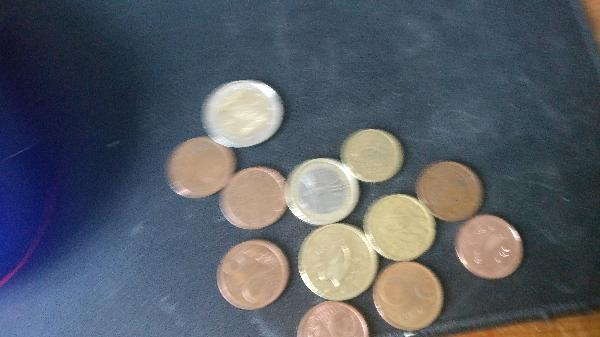Fifty Cent: (301, 223, 380, 303)
Five Cent: (453, 211, 528, 281), (216, 238, 289, 309), (370, 261, 444, 328), (164, 135, 236, 199), (221, 165, 288, 228), (416, 160, 483, 221), (295, 300, 374, 337)
One Euro: (289, 158, 359, 224)
Ten Cent: (341, 129, 412, 183)
Twenty Cent: (363, 190, 438, 258)
Two Euro: (203, 78, 284, 148)
